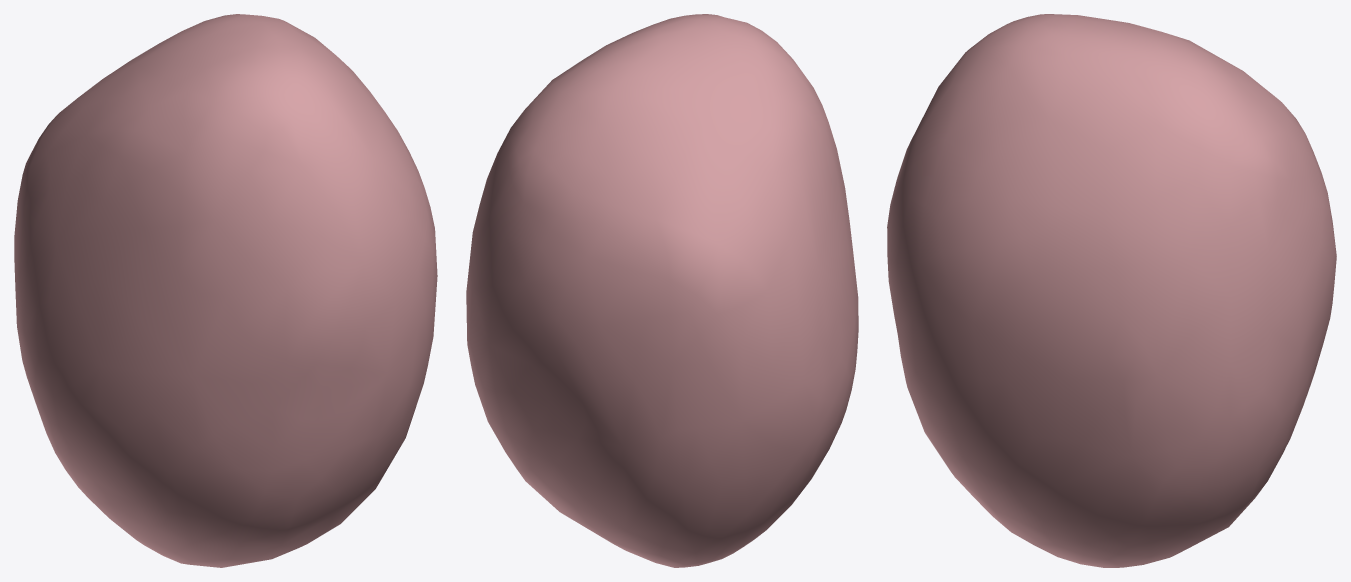
3 views of the same model, side by side, from view 1: azimuth 30°, elevation 25°; view 2: azimuth 150°, elevation 25°; view 3: azimuth 270°, elevation 25° (orthographic). The views are drawn at different scales.
Visible parts, largest first — view 1: ZA_552bf783cd4abfd9; view 2: ZA_552bf783cd4abfd9; view 3: ZA_552bf783cd4abfd9.
Part boxes in pixels (<box>): ZA_552bf783cd4abfd9: <box>14,14,437,567</box>; ZA_552bf783cd4abfd9: <box>466,14,858,567</box>; ZA_552bf783cd4abfd9: <box>887,14,1336,567</box>.
Bounding box in the file's own units: 0.0211 × 0.0295 × 0.0227.
